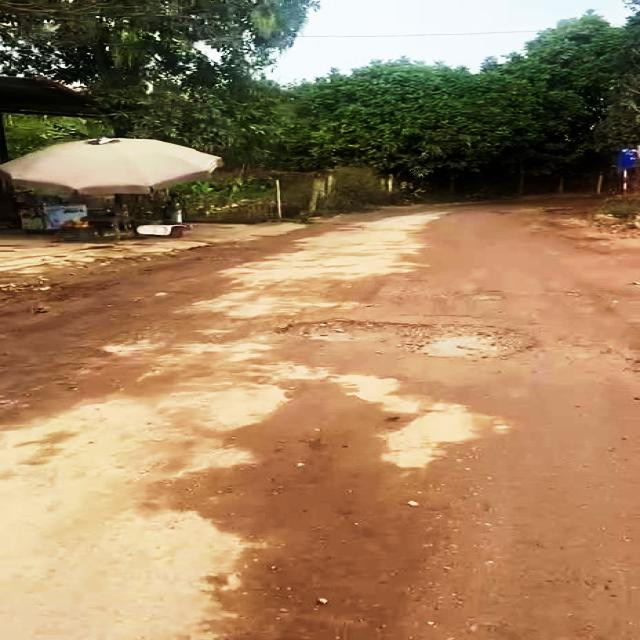pothole: (268, 319, 544, 363), (458, 290, 512, 305)
